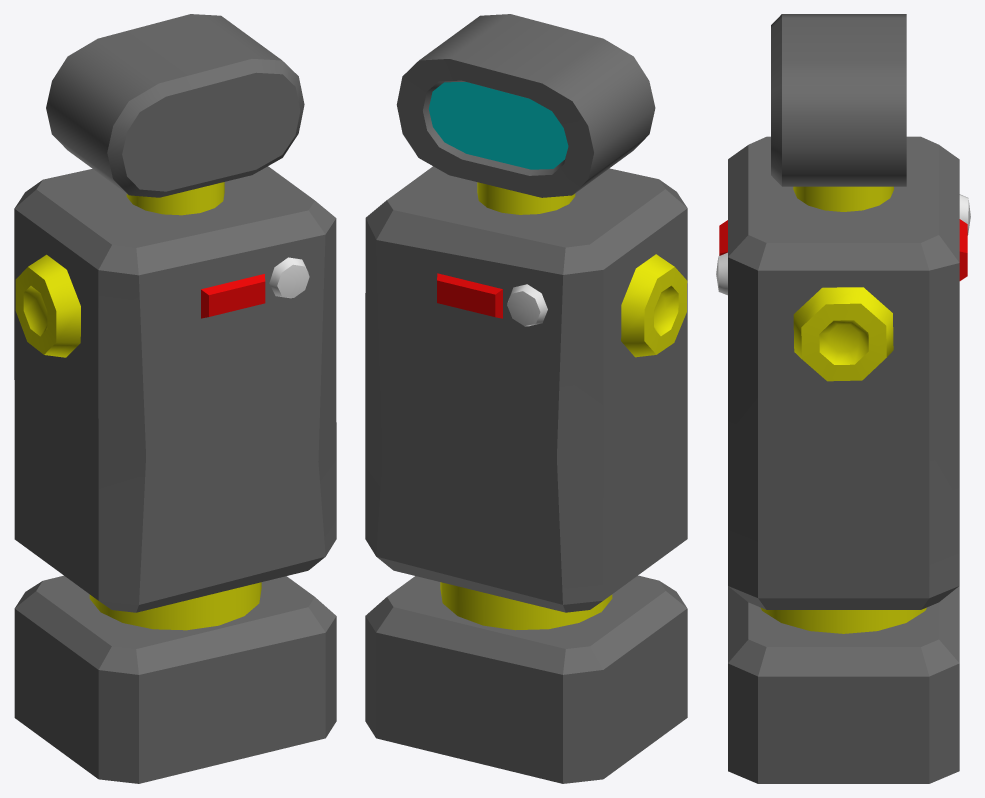
Rendered from Cook_Body.fbx.
The picture shows the model from 3 angles, left to right: view 1: azimuth 30°, elevation 25°; view 2: azimuth 150°, elevation 25°; view 3: azimuth 270°, elevation 25°; orthographic projection.
Parts seen in each view (by area): view 1: Cook_Body; view 2: Cook_Body; view 3: Cook_Body.
Part boxes in pixels (x1,y1,x2,y2): Cook_Body: (14,14,336,783); Cook_Body: (365,14,687,783); Cook_Body: (716,14,970,783).
Size of the model in its own units: 105 by 242 by 81.44.
